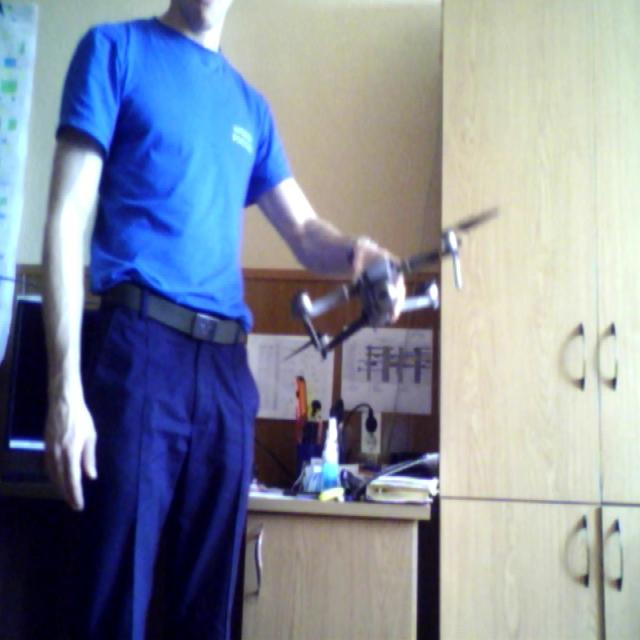drone: (280, 201, 526, 366)
